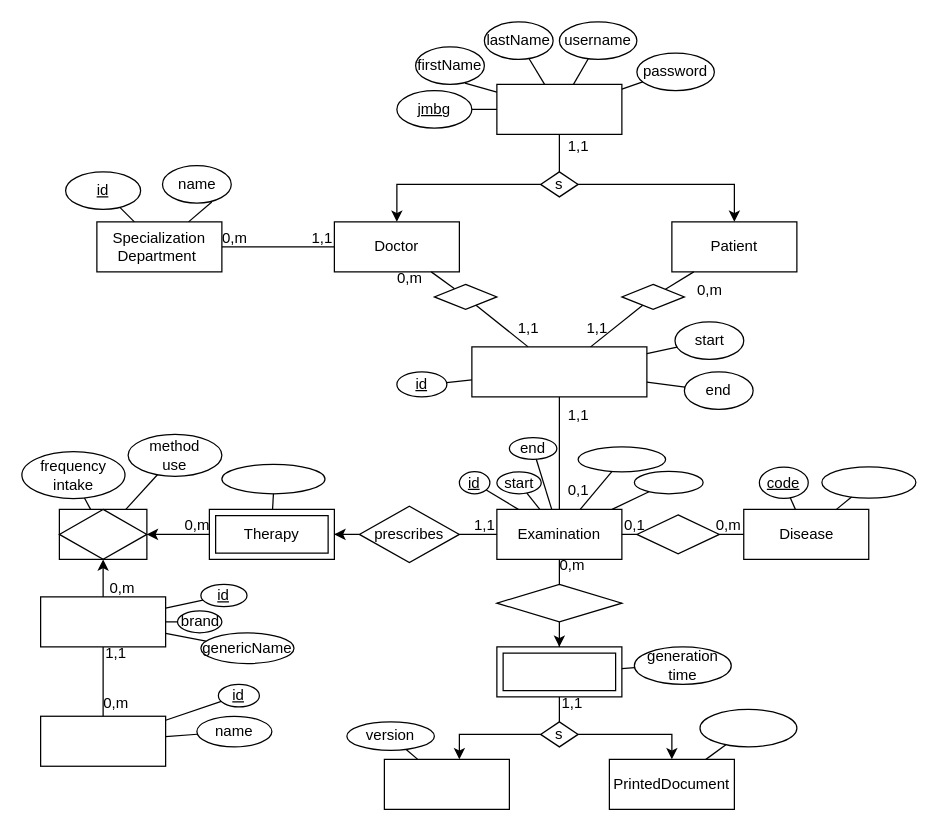
The diagram is 939 pixels wide and 831 high, and some of its shapes have lost their labels. Here are the shapes that lost their labels. From the top down, the box of each, then its label:
(496, 83, 622, 134): User
(433, 283, 497, 309): from
(621, 283, 684, 309): for
(471, 346, 647, 397): ScheduledAppointment
(221, 463, 325, 494): instructions
(577, 446, 666, 472): anamnesis
(633, 470, 703, 494): status
(821, 466, 916, 498): description
(58, 508, 147, 559): Medicine Usage
(636, 514, 719, 554): diagnosis
(39, 596, 166, 647): Medicine
(496, 583, 622, 622): generates
(496, 646, 622, 697): Report
(39, 715, 166, 766): Medicine Form
(699, 708, 797, 747): paper size
(383, 758, 509, 809): PDF File
